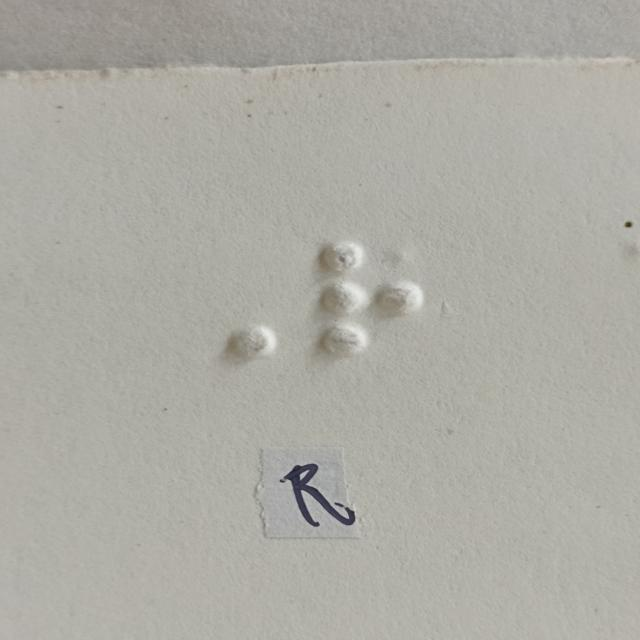R: (322, 240, 421, 355)
capital: (176, 241, 275, 356)
